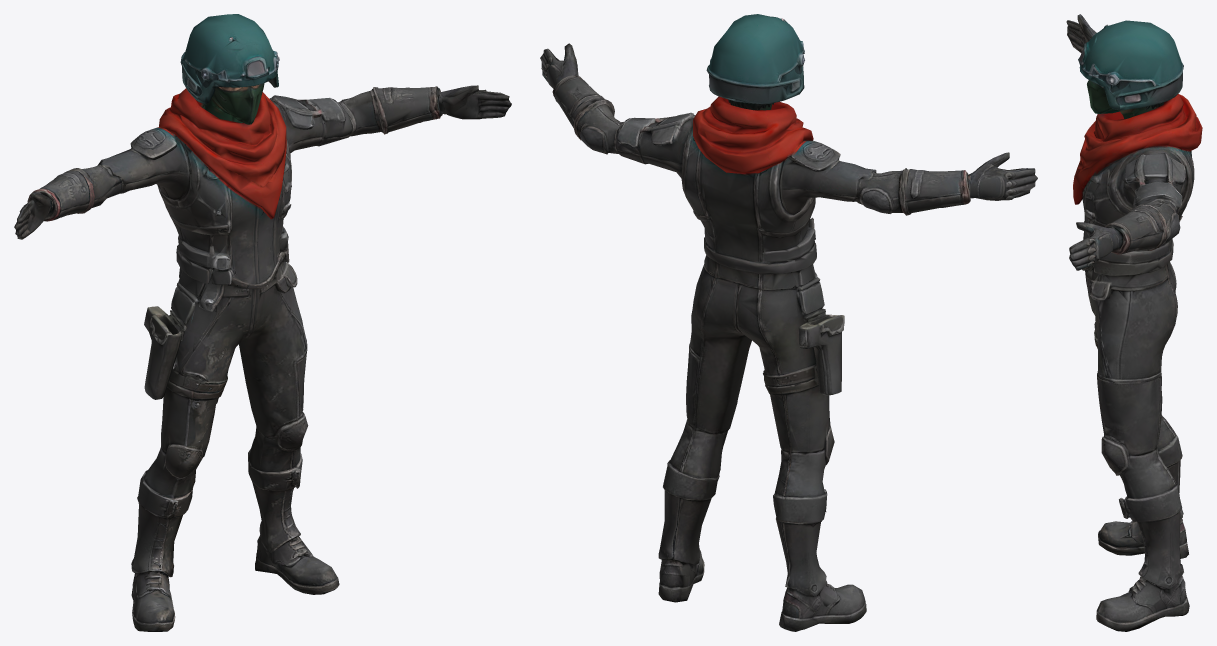
Rendered from soldier-rush.glb.
3 views of the same model, side by side, from view 1: azimuth 30°, elevation 25°; view 2: azimuth 150°, elevation 25°; view 3: azimuth 270°, elevation 25° (orthographic). The views are drawn at different scales.
Bounding box in the file's own units: 0.8715 × 0.978 × 0.2144.
1 material, 1 textured.
